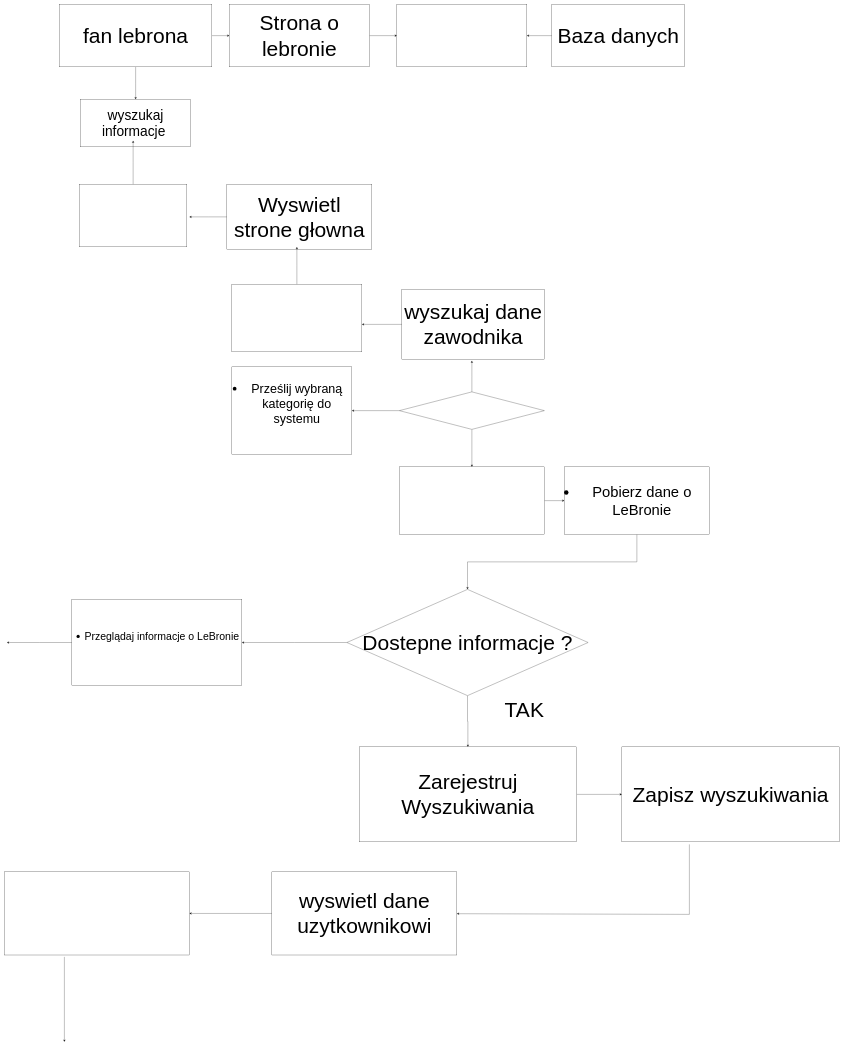
The diagram is 844 pixels wide and 1048 high, and some of its shapes have lost their labels. The shapes that lost their labels are listed below. From the top down, each one's centre as x and y in pixels, then its label:
At (462,35): "system".
At (133,215): "Lebron Jemes".
At (297,318): "wybierz kategorie".
At (471,410): "Czy znaleziono informacje?".
At (471,500): "Przygotuj informacje do wyświetlenia".
At (96,913): "Odbierz inforamcje".
